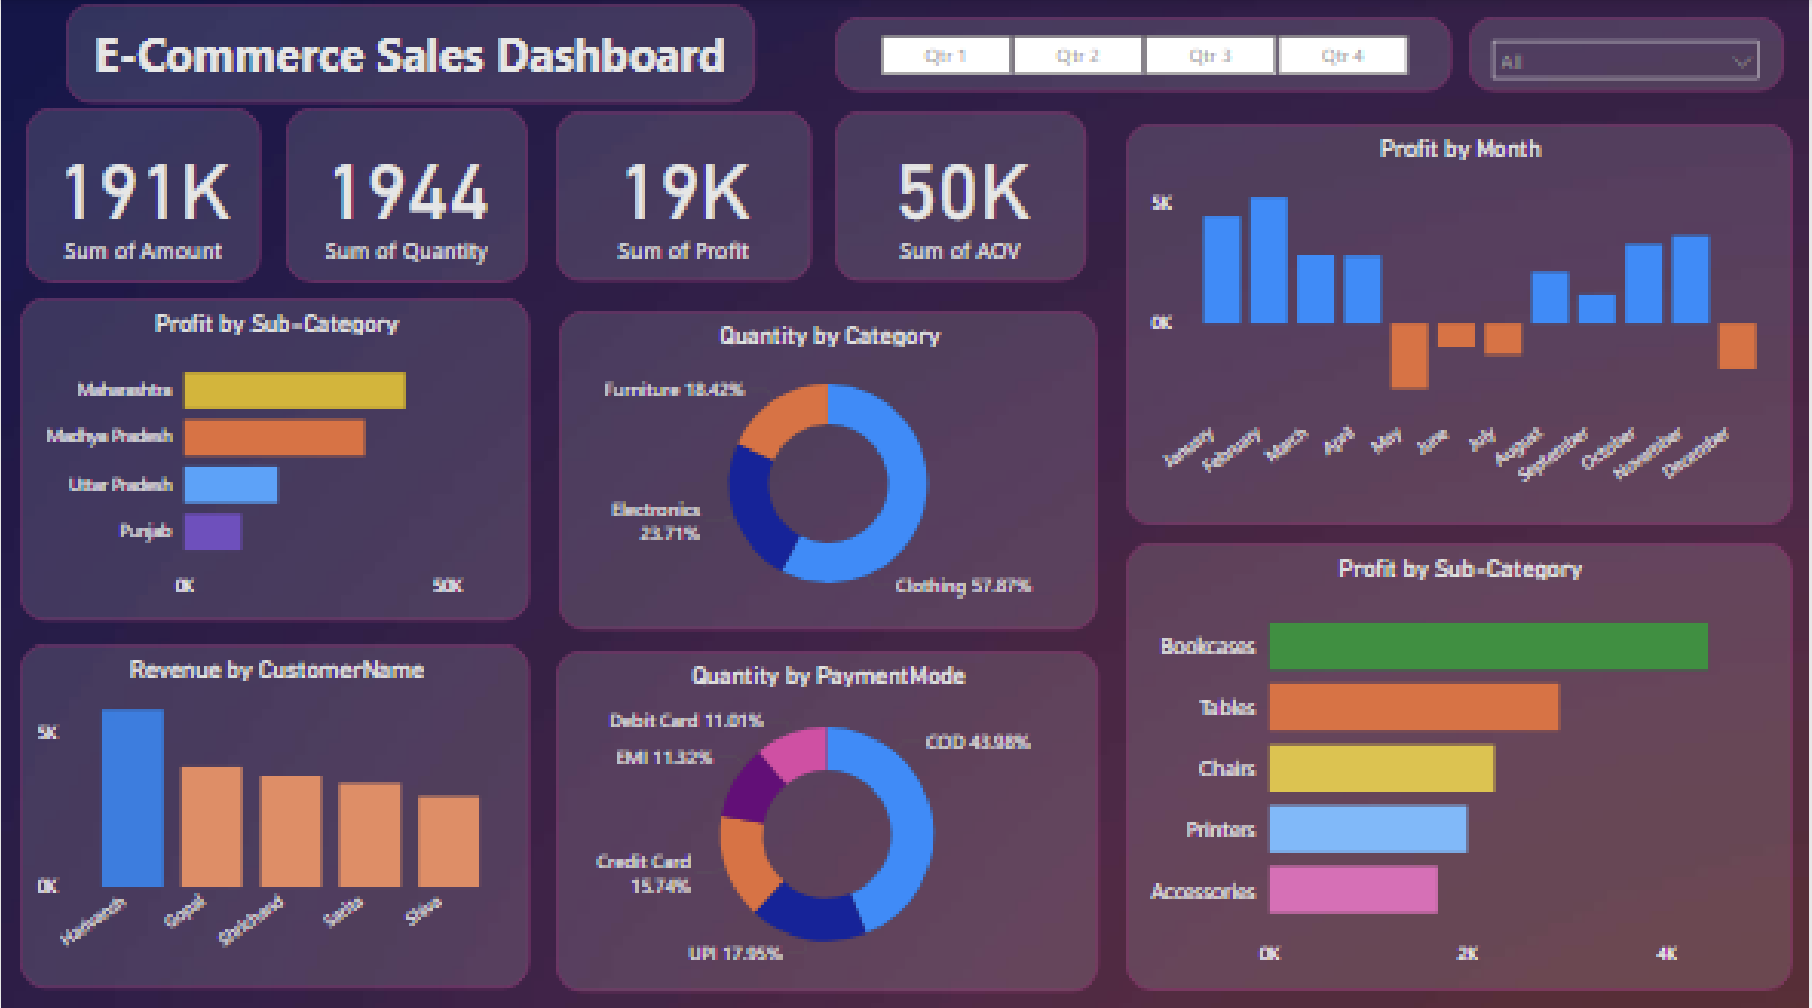

What the dashboard file says about the page in this screenshot:
{"tool":"powerbi","page":{"name":"Page 1","canvas":[1280,720],"ordinal":0},"visuals":[{"type":"columnChart","title":"Profit by Month","fields":{"Y":["Details.Profit"],"Category":["Orders.Order Date.Variation.Date Hierarchy.Month"]},"box":[795.6,87.8,471.8,283.6],"z":0},{"type":"barChart","title":"Profit by Sub-Category","fields":{"Category":["Details.Sub-Category"],"Y":["Details.Profit"]},"box":[795.6,386.5,471.8,316.2],"z":1000},{"type":"donutChart","title":"Quantity by Category","fields":{"Category":["Details.Category"],"Y":["Details.Quantity"]},"box":[394,220.9,381.5,225.9],"z":2000},{"type":"donutChart","title":"Quantity by PaymentMode","fields":{"Y":["Details.Quantity"],"Category":["Details.PaymentMode"]},"box":[391.5,461.8,384,240.9],"z":3000},{"type":"card","fields":{"Values":["Details.Amount"]},"box":[17.6,77.8,165.6,123],"z":4000},{"type":"card","fields":{"Values":["Details.Profit"]},"box":[391.5,80.3,180.7,120.5],"z":5000},{"type":"card","fields":{"Values":["Details.Quantity"]},"box":[200.8,77.8,170.7,123],"z":6000},{"type":"card","fields":{"Values":["Details.AOV"]},"box":[589.8,80.3,178.2,120.5],"z":7000},{"type":"barChart","title":"Profit by Sub-Category","fields":{"Category":["Orders.State"],"Y":["Details.Amount"]},"box":[12.5,213.3,361.4,228.4],"z":8000},{"type":"columnChart","title":"Revenue by CustomerName","fields":{"Category":["Orders.CustomerName"],"Y":["Details.Amount"]},"box":[12.5,456.8,361.4,243.5],"z":9000},{"type":"slicer","fields":{"Values":["Orders.Order Date.Variation.Date Hierarchy.Quarter"]},"box":[589.8,12.5,436.7,52.7],"z":10000},{"type":"slicer","fields":{"Values":["Orders.State"]},"box":[1039.1,12.5,223.4,52.7],"z":11000},{"type":"textbox","box":[44.6,3.6,487.5,69.6],"z":12000}]}

Visuals, with their boxes in screenshot pixels (x1, y1, x2, y2), scaled from the page's 1280x720 canvas onto the 1812x1008 screenshot:
"Profit by Month" columnChart: box=[1126, 123, 1794, 520]
"Profit by Sub-Category" barChart: box=[1126, 541, 1794, 984]
"Quantity by Category" donutChart: box=[558, 309, 1098, 626]
"Quantity by PaymentMode" donutChart: box=[554, 647, 1098, 984]
card - Details.Amount: box=[25, 109, 259, 281]
card - Details.Profit: box=[554, 112, 810, 281]
card - Details.Quantity: box=[284, 109, 526, 281]
card - Details.AOV: box=[835, 112, 1087, 281]
"Profit by Sub-Category" barChart: box=[18, 299, 529, 618]
"Revenue by CustomerName" columnChart: box=[18, 640, 529, 980]
slicer - Orders.Order Date.Variation.Date Hierarchy.Quarter: box=[835, 18, 1453, 91]
slicer - Orders.State: box=[1471, 18, 1787, 91]
textbox: box=[63, 5, 753, 102]
